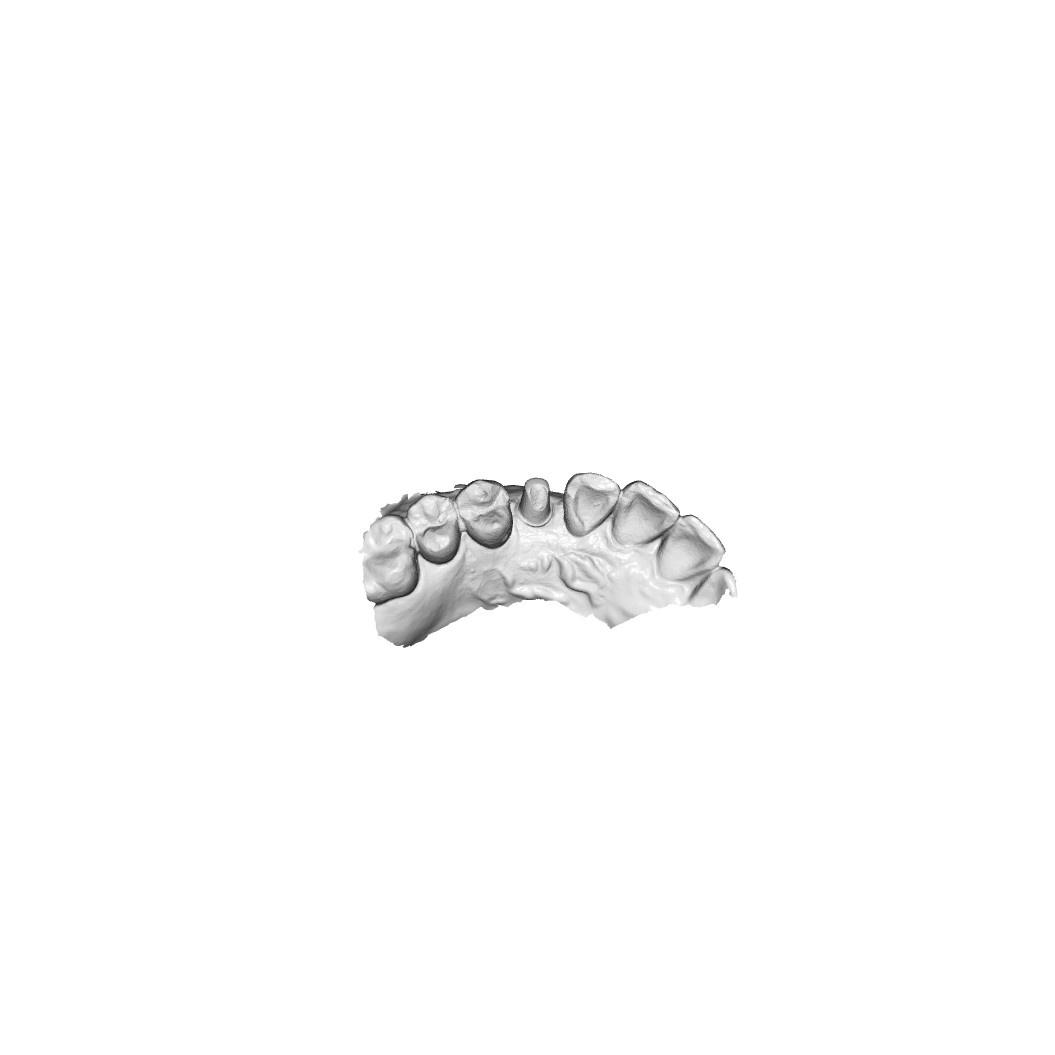abutment: (517, 471, 553, 530)
incisor: (654, 513, 726, 585), (612, 480, 682, 546), (564, 470, 619, 537)
molar: (360, 516, 420, 601)
premolar: (457, 476, 515, 548), (411, 492, 463, 564)
